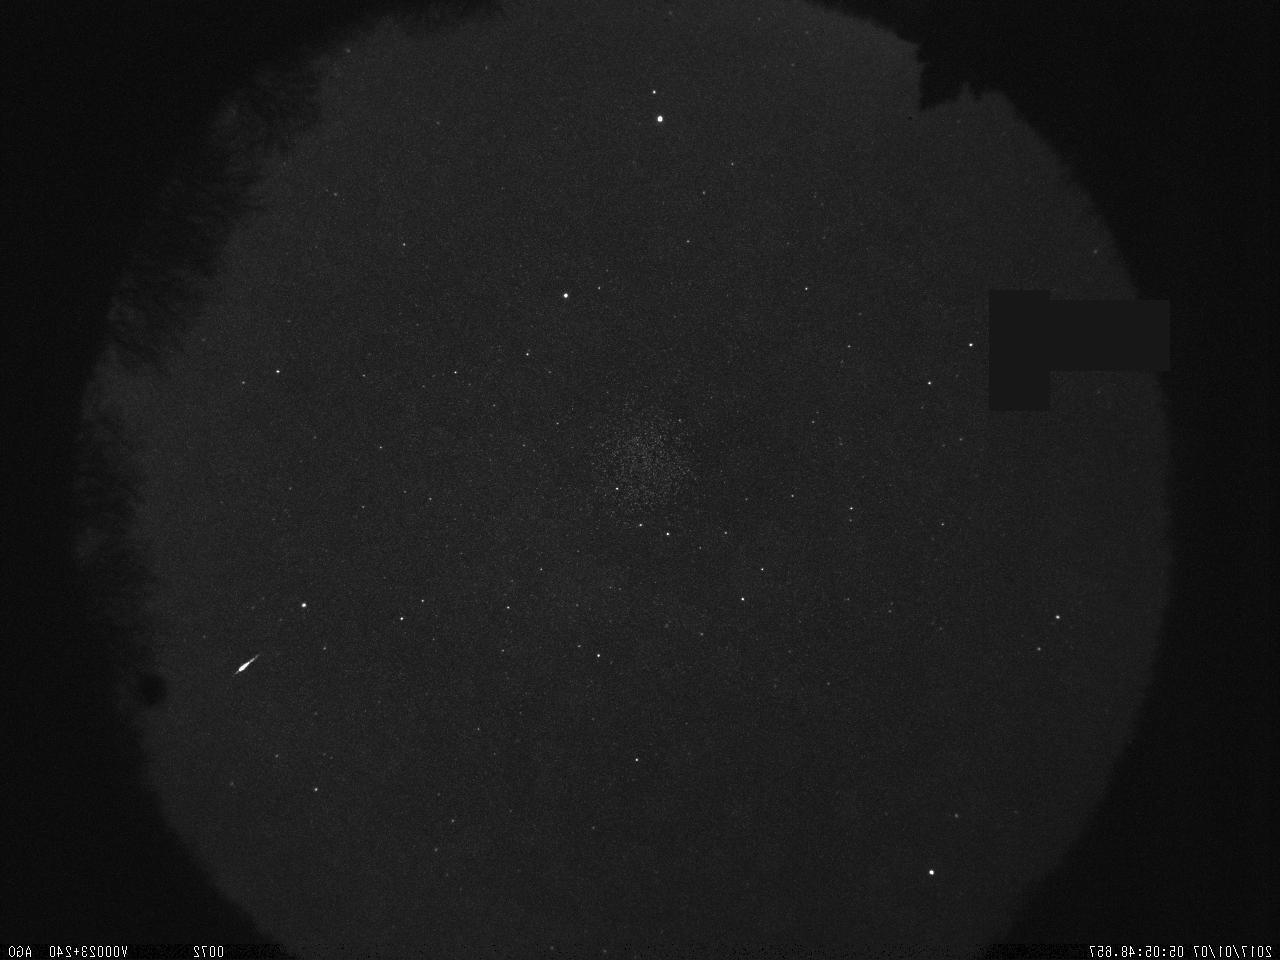meteor: (229, 650, 264, 680)
